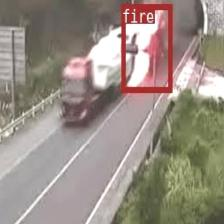fire: (121, 3, 171, 92)
